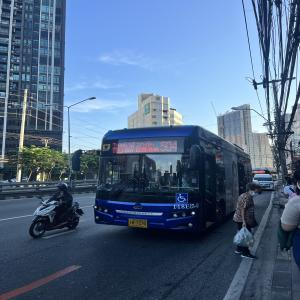Bus Line Number: (159, 139, 180, 153)
Bus Side Number: (171, 203, 199, 209)
Destination Sign: (112, 140, 159, 154)
TSB-Bus: (93, 126, 253, 234)
